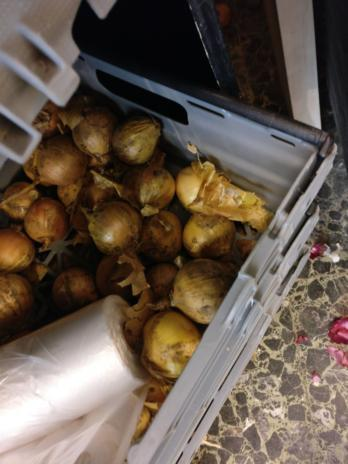Onion: (39, 104, 161, 326), (134, 161, 232, 293), (0, 179, 52, 325)
